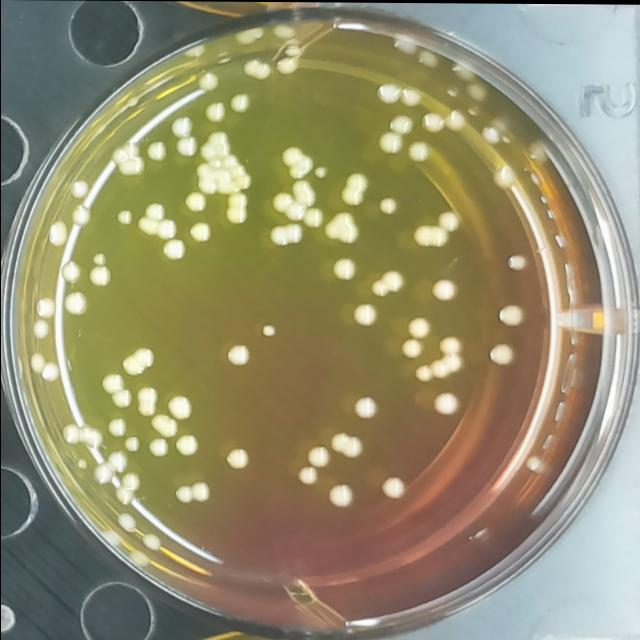StaphyloPositive: (194, 127, 252, 195), (59, 421, 108, 452), (92, 450, 130, 488), (266, 188, 308, 222), (434, 333, 464, 380), (278, 142, 314, 178), (322, 210, 358, 246), (327, 429, 365, 461), (112, 139, 144, 176), (338, 170, 368, 206), (172, 478, 212, 505), (369, 268, 405, 297), (408, 224, 449, 249), (100, 374, 130, 408), (28, 352, 62, 382), (376, 472, 410, 501), (118, 346, 152, 375), (324, 481, 354, 513), (222, 191, 248, 227), (266, 222, 304, 246), (431, 388, 461, 418), (133, 386, 159, 420), (114, 473, 140, 507), (162, 391, 192, 420), (429, 275, 458, 304), (486, 339, 516, 367), (222, 343, 254, 369), (329, 253, 357, 282), (495, 301, 524, 328), (158, 236, 188, 262), (62, 290, 88, 319), (351, 394, 379, 420), (221, 444, 249, 470), (350, 301, 377, 327), (377, 130, 403, 156), (175, 431, 199, 459), (404, 314, 430, 339), (84, 266, 112, 289), (187, 221, 213, 245), (398, 336, 424, 360), (387, 110, 413, 134), (305, 445, 331, 469), (182, 188, 206, 213), (495, 160, 519, 185), (30, 294, 54, 319), (170, 113, 193, 139), (242, 58, 269, 80), (374, 81, 401, 103), (194, 70, 218, 94), (434, 208, 458, 232), (419, 109, 443, 133), (296, 464, 320, 488), (48, 221, 68, 249), (406, 140, 430, 163), (479, 123, 503, 146), (302, 204, 324, 229), (203, 101, 225, 125), (173, 135, 195, 159), (144, 141, 168, 163), (442, 108, 464, 132), (505, 251, 527, 274), (228, 93, 250, 115), (115, 512, 138, 533), (59, 262, 83, 282), (68, 177, 90, 198), (399, 84, 420, 106), (106, 416, 127, 438), (113, 207, 136, 227), (72, 203, 90, 228), (148, 437, 170, 457), (412, 363, 432, 383), (30, 320, 50, 340), (142, 532, 164, 550), (375, 195, 395, 214), (124, 435, 141, 453), (260, 324, 278, 338)
